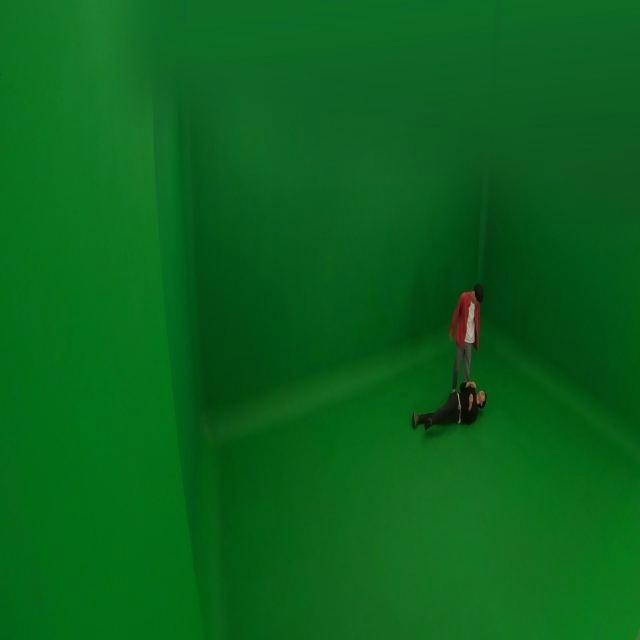fight: (407, 281, 490, 436)
